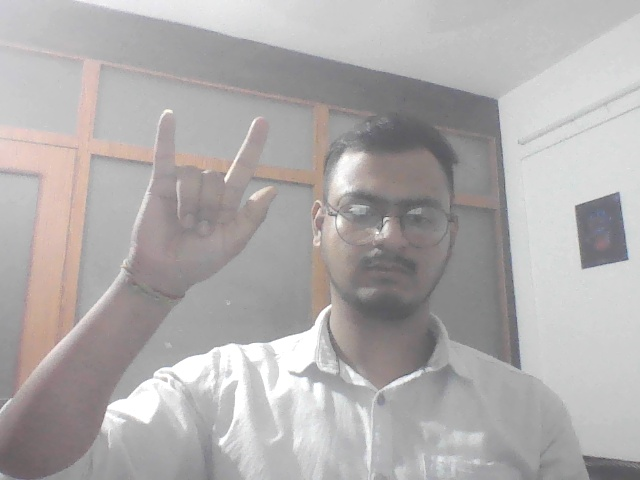I Love You: (112, 102, 288, 304)
